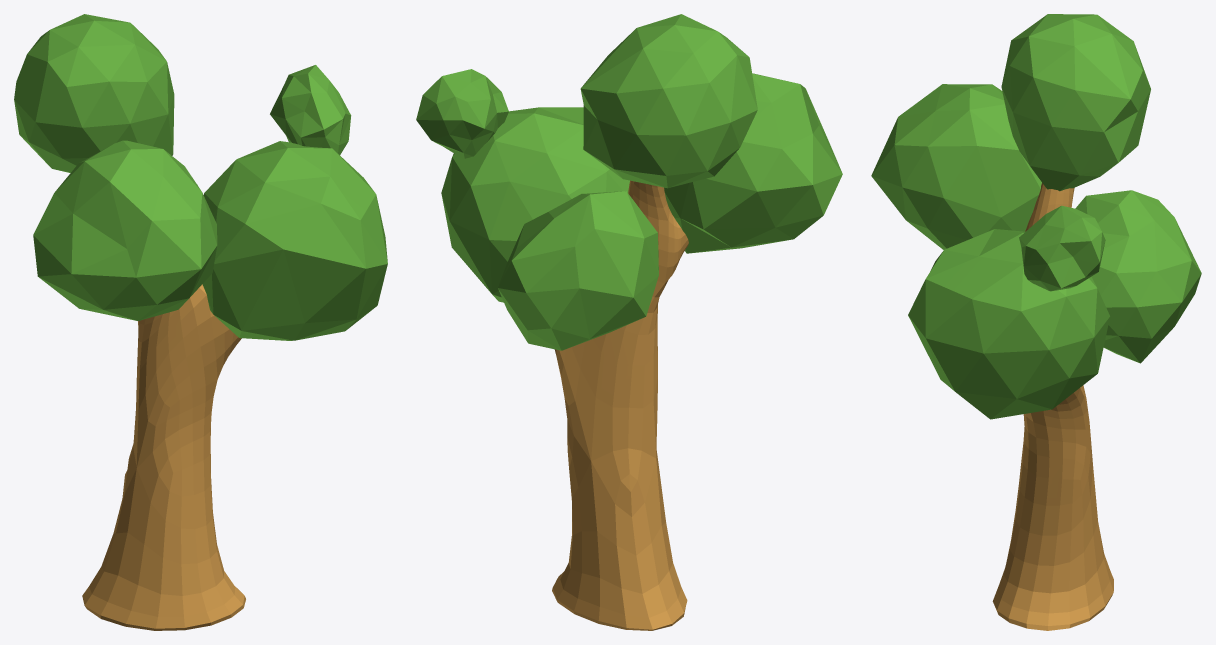
The model's file is Tree_2.glb.
3 views of the same model, side by side, from view 1: azimuth 30°, elevation 25°; view 2: azimuth 150°, elevation 25°; view 3: azimuth 270°, elevation 25° (orthographic). The views are drawn at different scales.
Visible parts, largest first — view 1: Tree_2; view 2: Tree_2; view 3: Tree_2.
Part boxes in pixels (x1,y1,x2,y2): Tree_2: (14, 14, 387, 630); Tree_2: (416, 14, 842, 630); Tree_2: (871, 14, 1201, 630).
Size of what is drawn, in the model's own units: 6.82 by 11.04 by 5.97.
